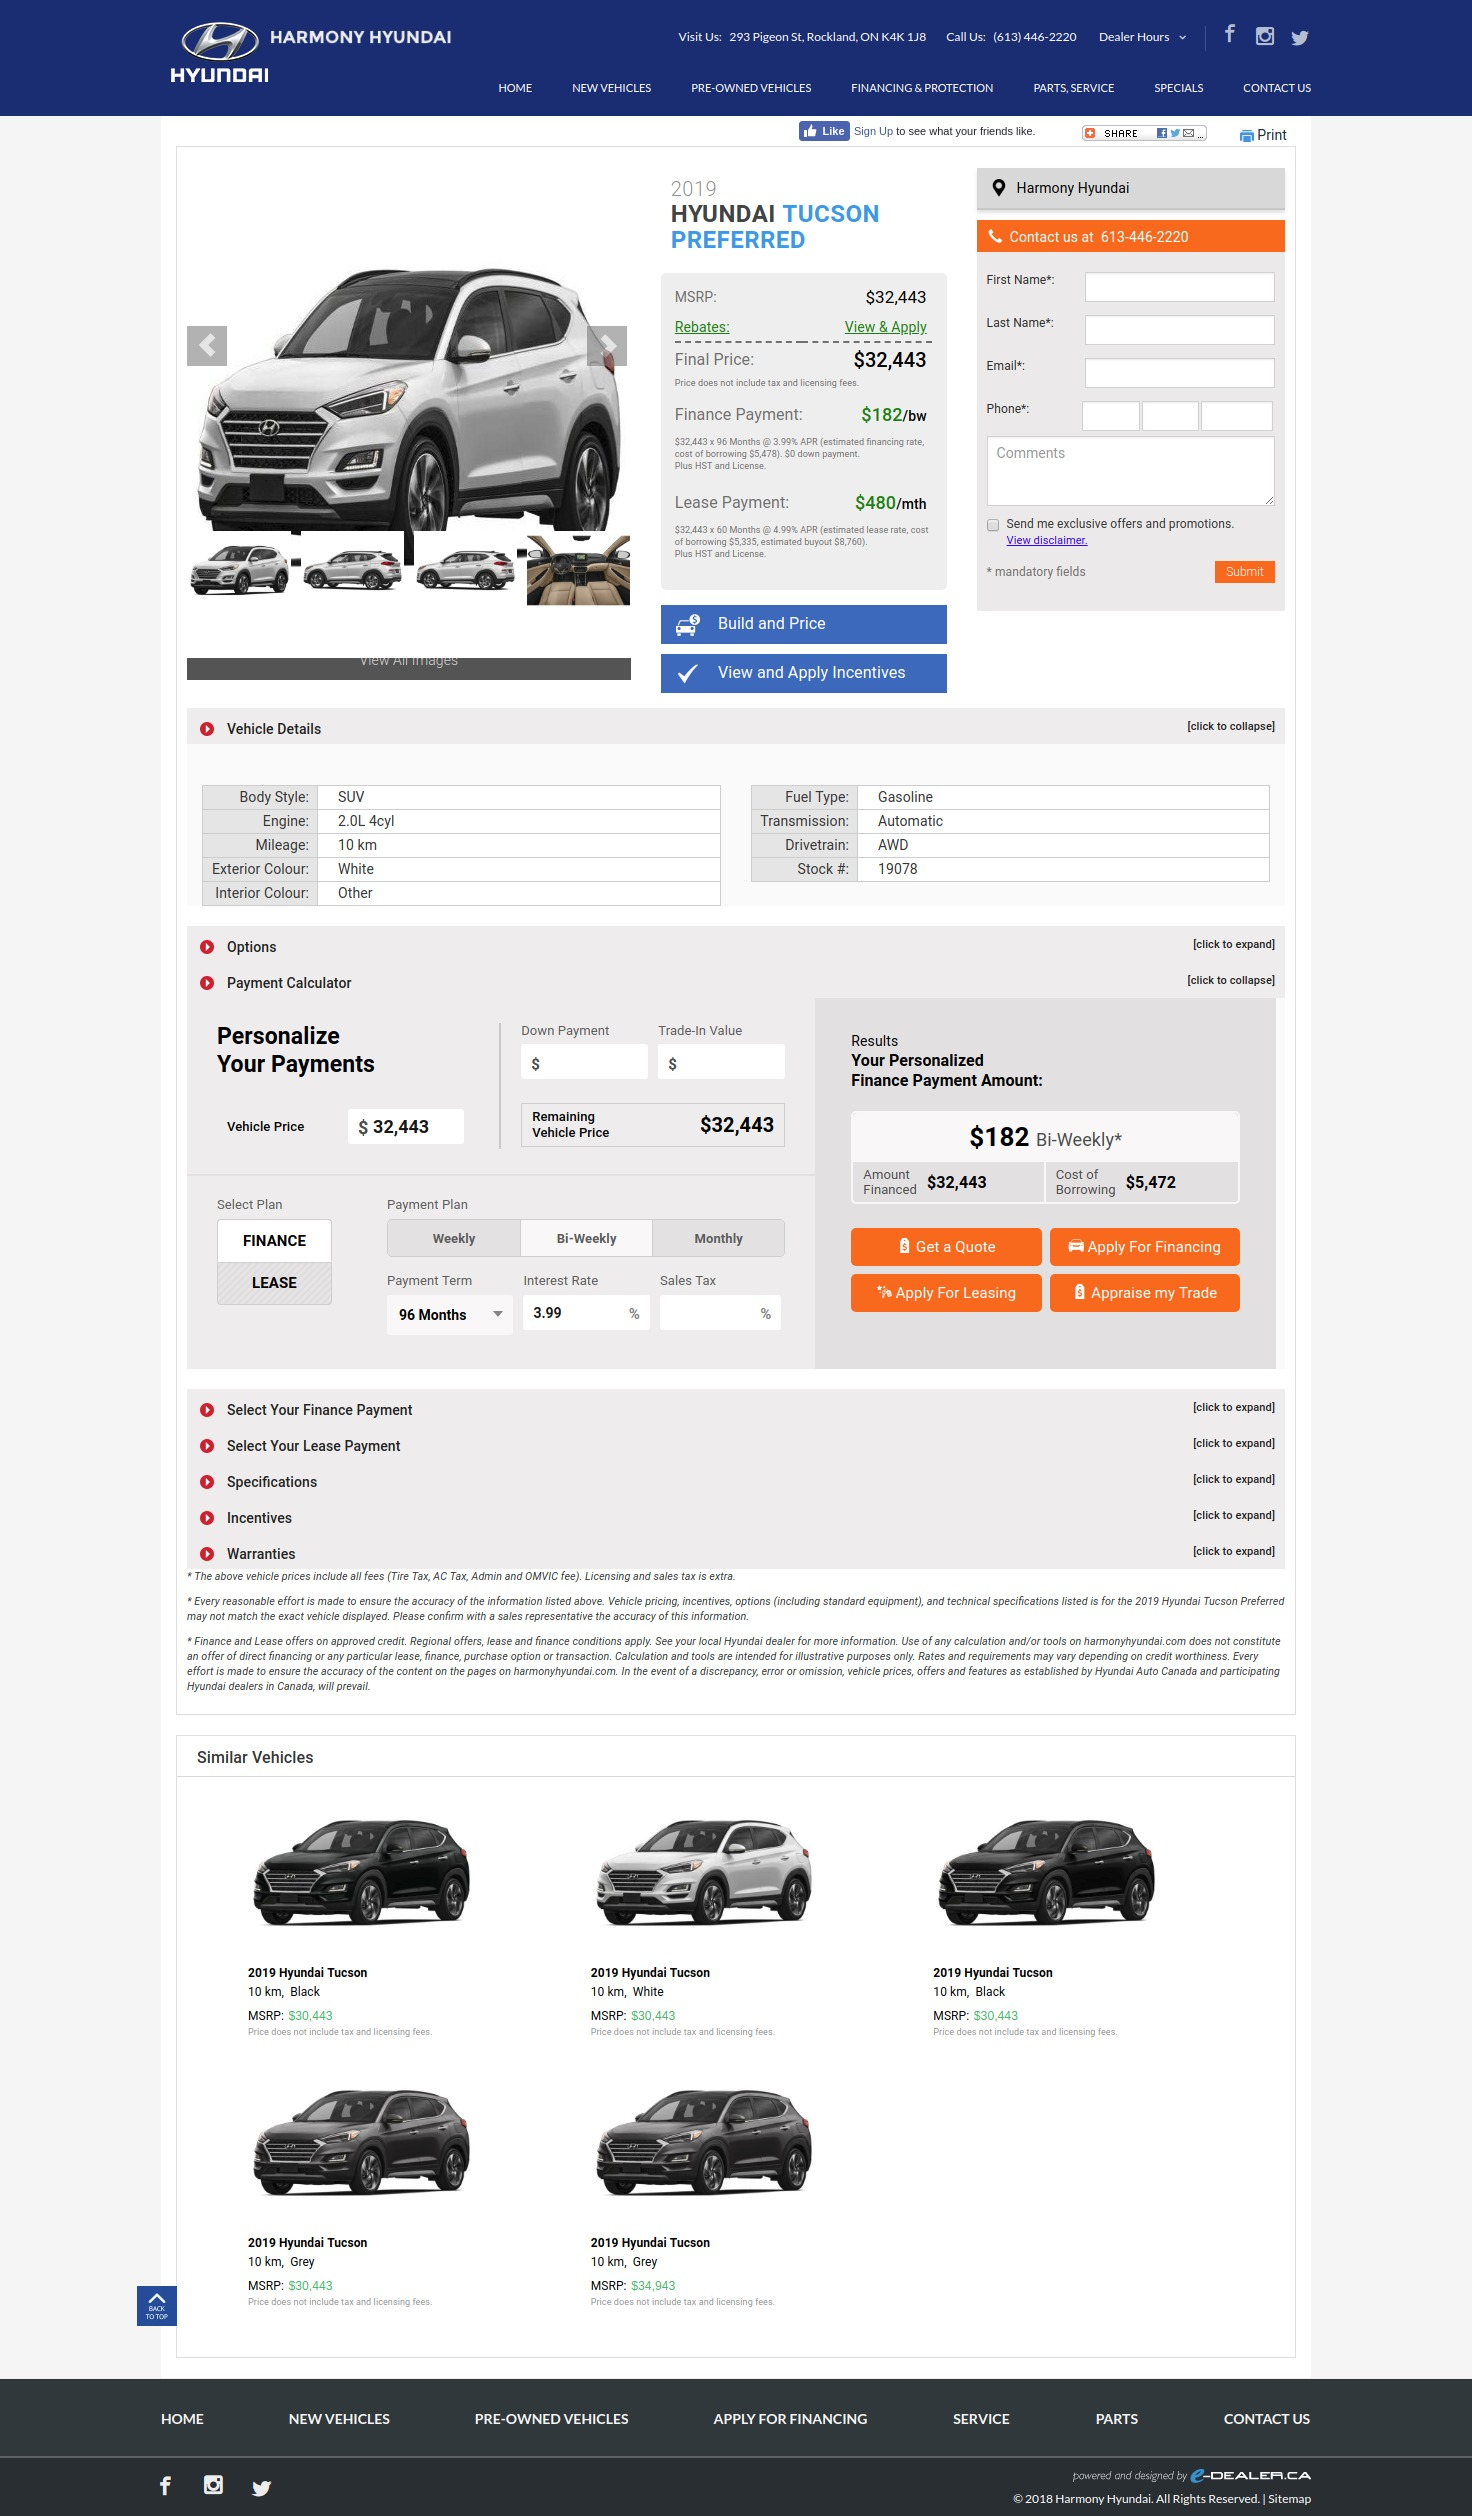car: (601, 335, 619, 359)
